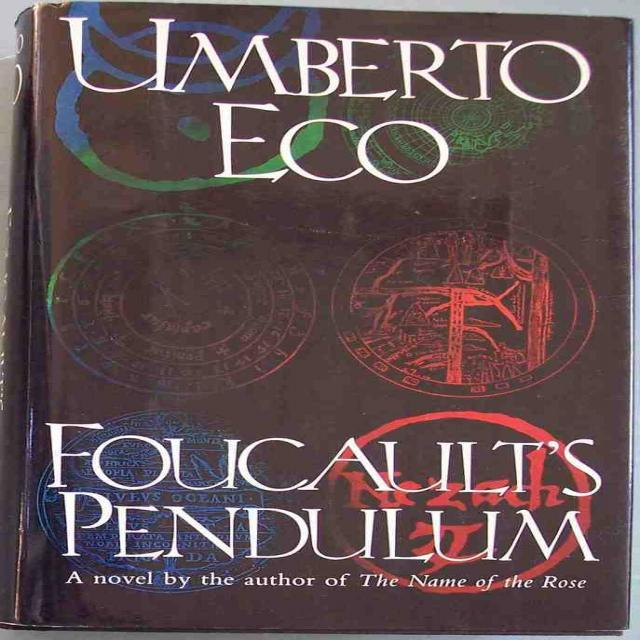book: (1, 1, 633, 640)
